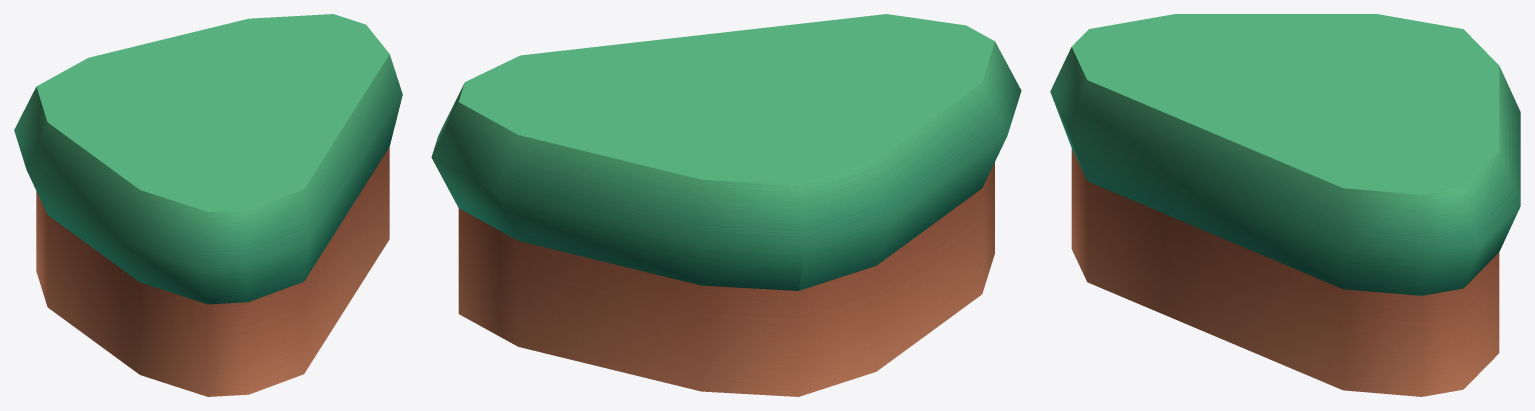
The model's file is block-grass-corner-low.glb.
3 renders of one model, left to right at view 1: azimuth 30°, elevation 25°; view 2: azimuth 150°, elevation 25°; view 3: azimuth 270°, elevation 25°, orthographic. The views are drawn at different scales.
Parts seen in each view (by area): view 1: block-grass-corner-low; view 2: block-grass-corner-low; view 3: block-grass-corner-low.
Boxes of the visible parts, x1=… form: block-grass-corner-low: x1=14, y1=14, x2=402, y2=396; block-grass-corner-low: x1=431, y1=14, x2=1021, y2=396; block-grass-corner-low: x1=1050, y1=14, x2=1520, y2=396.
Size of the model in its own units: 1.05 by 0.5 by 1.05.
Materials: 1 (1 with a texture image).
